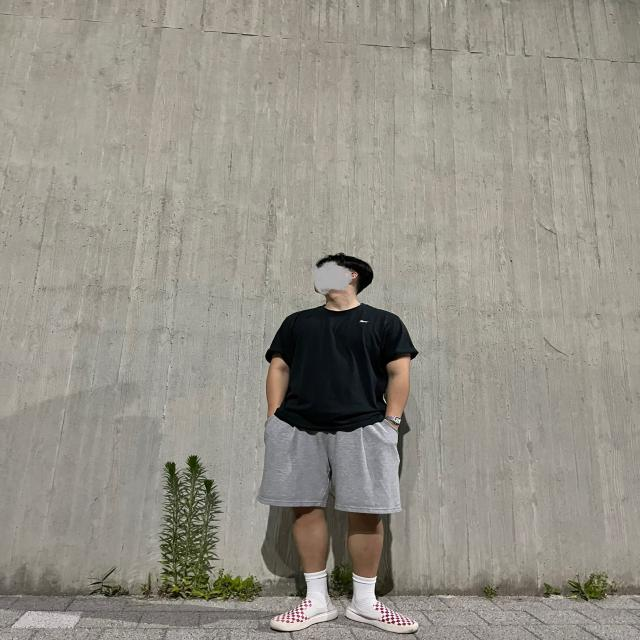shortpants: (258, 411, 399, 517)
shortsleeve: (264, 297, 411, 432)
